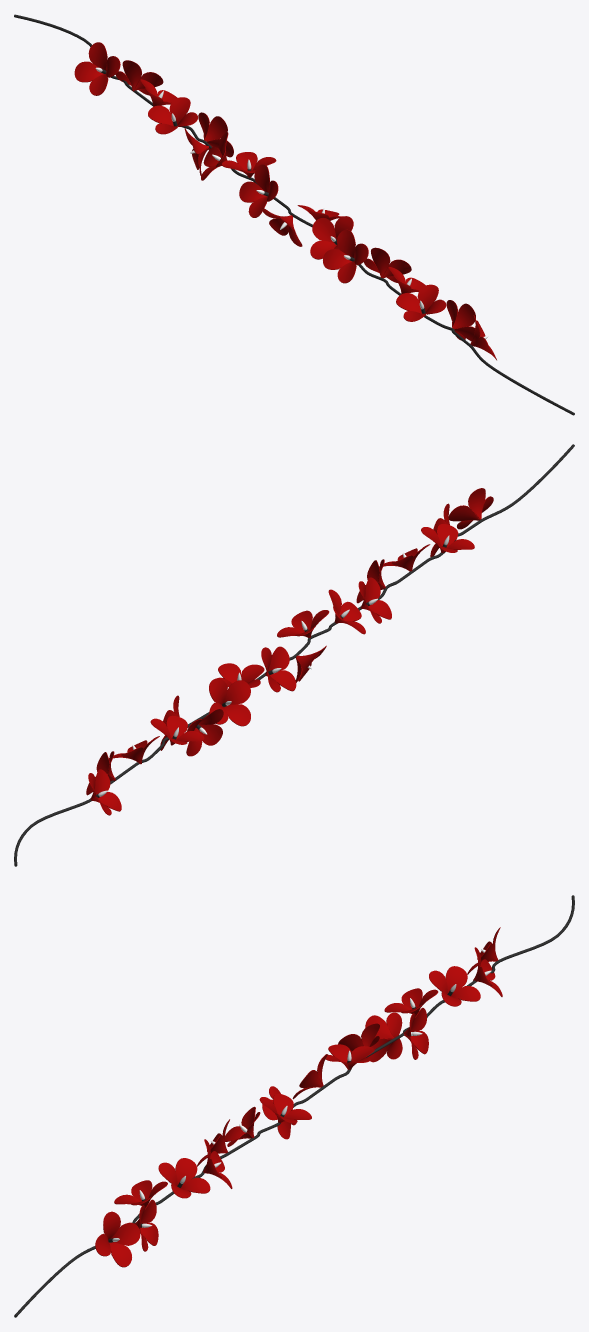
The picture shows the model from 3 angles, top to bottom: view 1: azimuth 30°, elevation 25°; view 2: azimuth 150°, elevation 25°; view 3: azimuth 330°, elevation 25°; orthographic projection. The views are drawn at different scales.
Parts seen in each view (by area): view 1: 3316b7cd2a7056735b8c473249e2940de9361603 > > root > (×2); view 2: 3316b7cd2a7056735b8c473249e2940de9361603 > > root > (×2); view 3: 3316b7cd2a7056735b8c473249e2940de9361603 > > root > (×2).
Part boxes in pixels (left/top/right/bottom): 3316b7cd2a7056735b8c473249e2940de9361603 > > root > (×2): left=14, top=14, right=574, bottom=415; 3316b7cd2a7056735b8c473249e2940de9361603 > > root > (×2): left=14, top=444, right=574, bottom=866; 3316b7cd2a7056735b8c473249e2940de9361603 > > root > (×2): left=14, top=895, right=574, bottom=1317.
Size of the model in its own units: 0.18 by 0.16 by 2.8.
